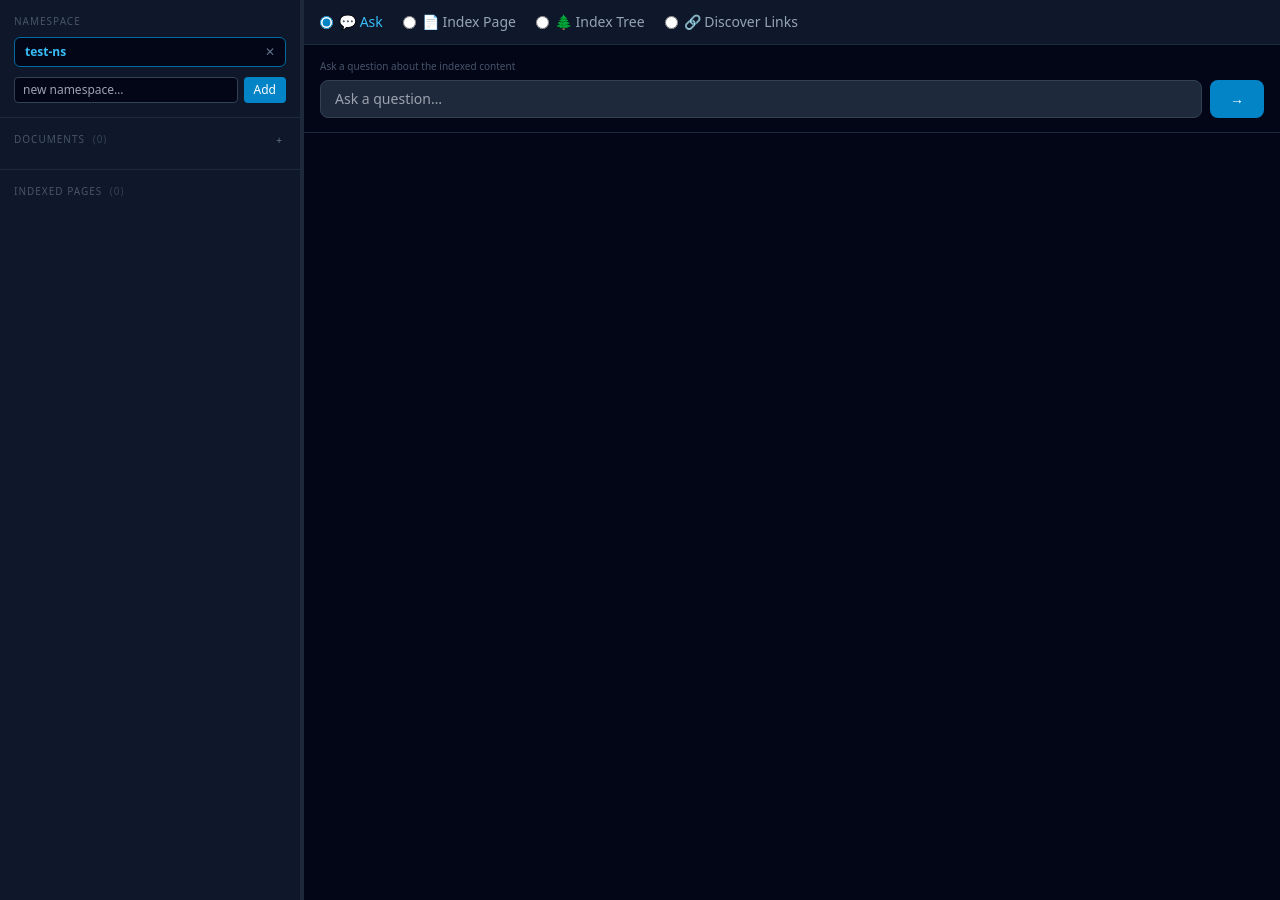
it: App › adds an ask result to history on submit
This screenshot has width=1280, height=900.
Check: the text "test-ns" is shown, box [25,43,66,60]
Step 1. Type "bearer token" into the field with placeholder "Ask a question…" → point(761, 99), box [320,80,1202,118]
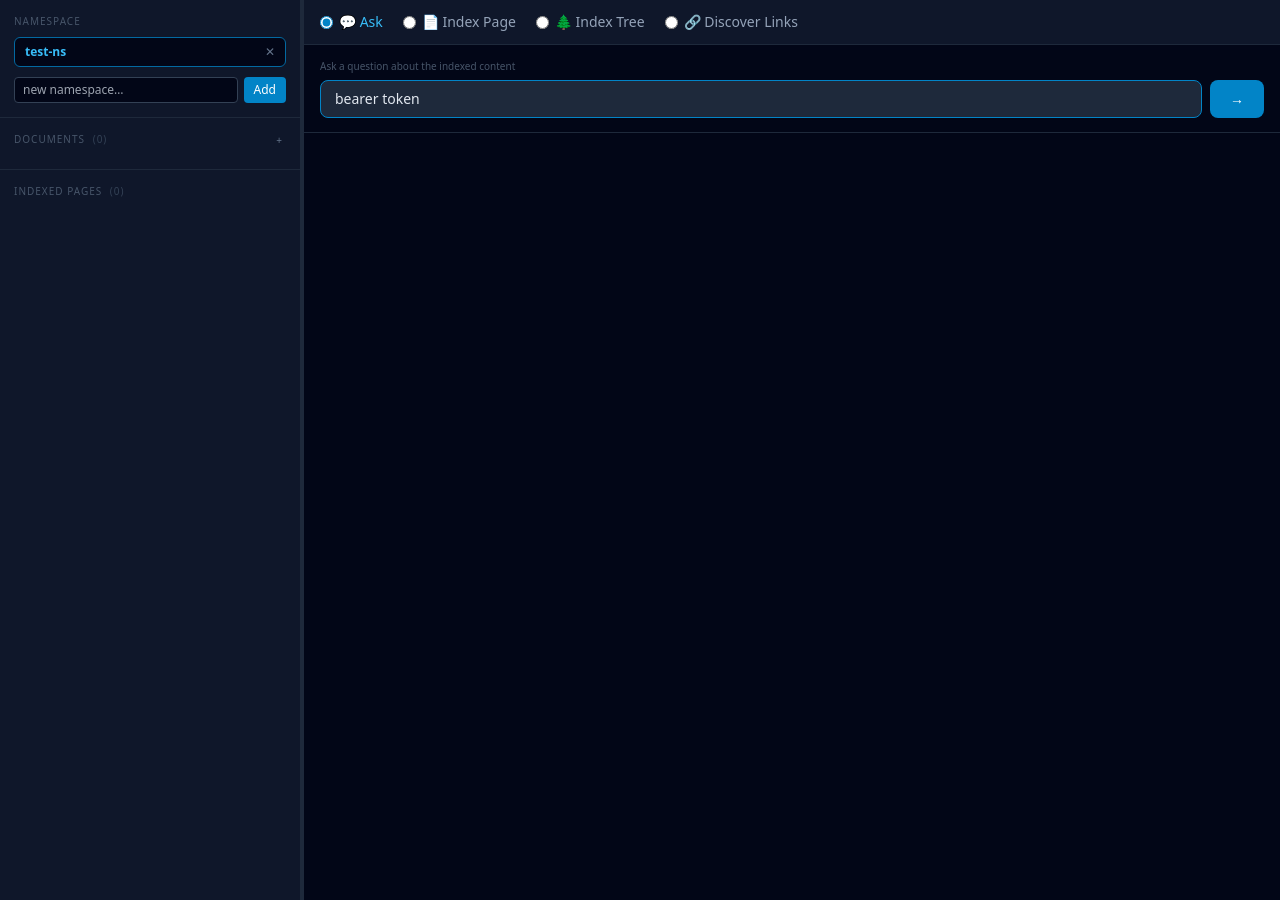
Step 2. Click the button named "Ask" → point(1237, 99), box [1210,80,1264,118]
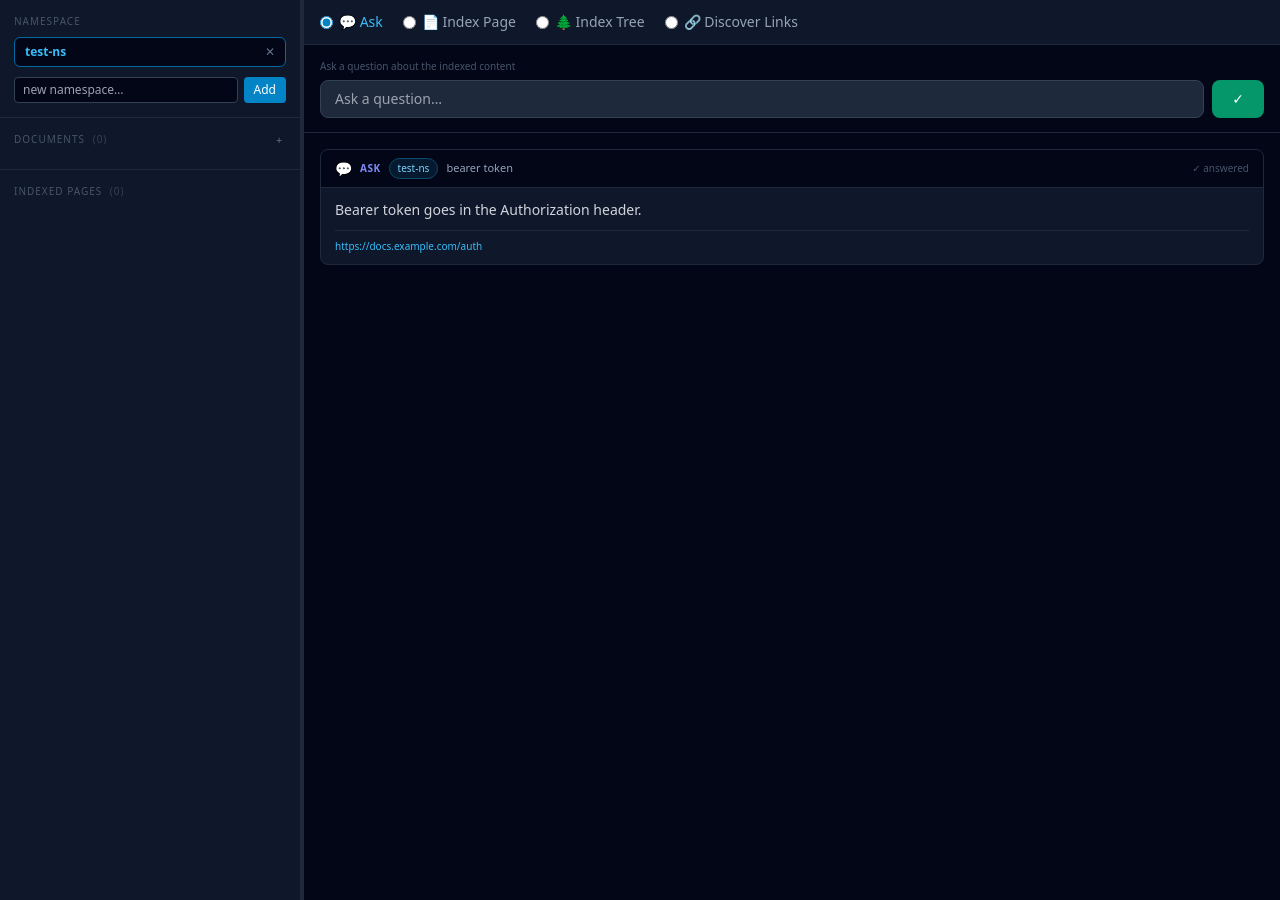
Check: the text "Bearer token goes in the Authorization header." is shown, box [335,200,642,219]
Check: the text "Ask" is shown, box [360,161,381,176]
